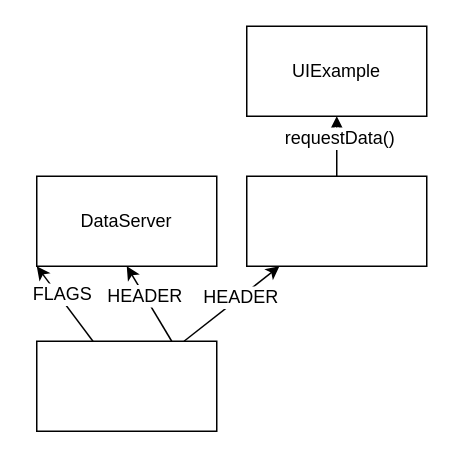
This 453x458 diagram has some shape labels left out. The shapes that lost their labels are listed below. From the top down, each one's box as (x1, y1, x2, y2) in pixels, then its label:
(245, 175, 427, 266): DataClient
(35, 340, 217, 431): Protocol
